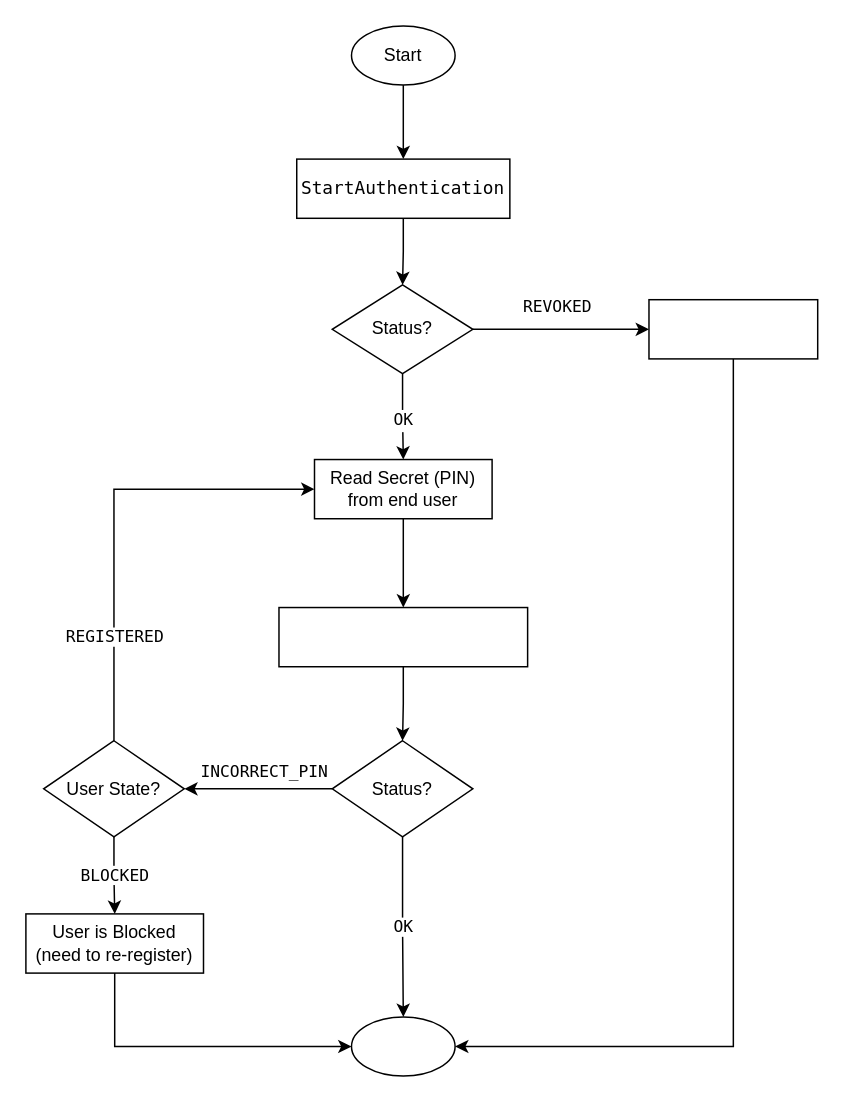
This 844x1103 diagram has some shape labels left out. Each missing label, with the centre of its shape:
"End" goes at point (402, 1045).
"FinishAuthentication" goes at point (403, 636).
"User is Revoked" goes at point (733, 328).
